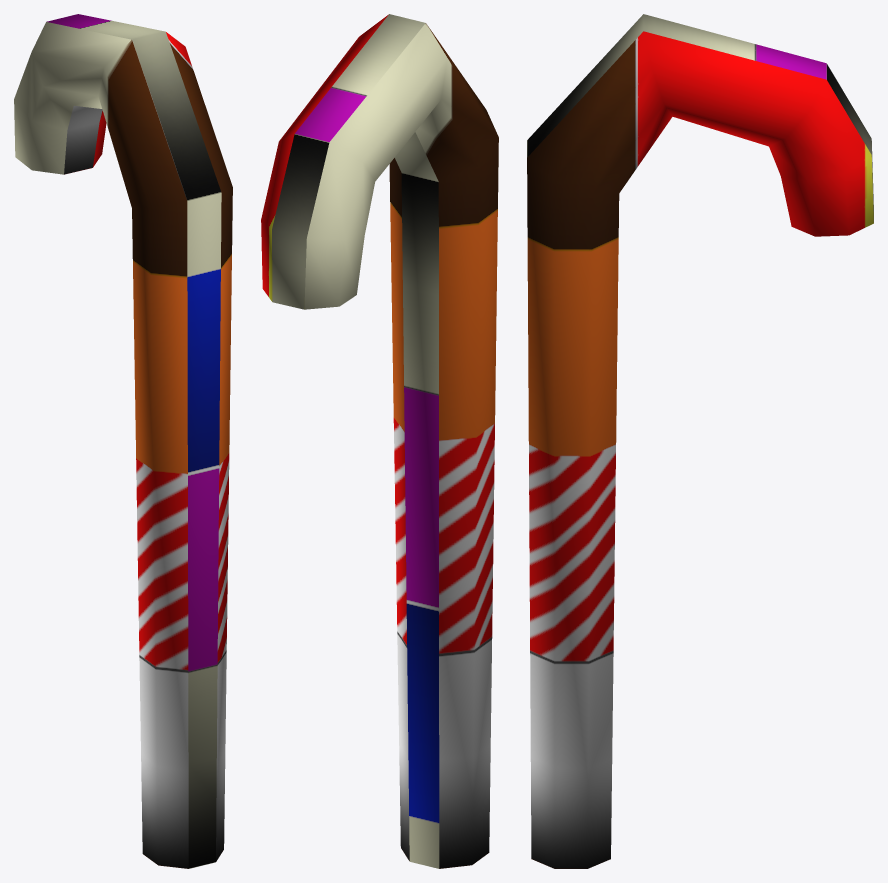
The model's file is shugar stik mp.fbx.
The picture shows the model from 3 angles, left to right: view 1: azimuth 30°, elevation 25°; view 2: azimuth 150°, elevation 25°; view 3: azimuth 270°, elevation 25°; orthographic projection. The views are drawn at different scales.
Parts seen in each view (by area): view 1: bastoncino_mp; view 2: bastoncino_mp; view 3: bastoncino_mp.
Part boxes in pixels (left/top/right/bottom): bastoncino_mp: left=14, top=14, right=232, bottom=868; bastoncino_mp: left=261, top=14, right=498, bottom=868; bastoncino_mp: left=527, top=14, right=873, bottom=868.
Size of the model in its own units: 0.2115 by 1.93 by 0.732.
